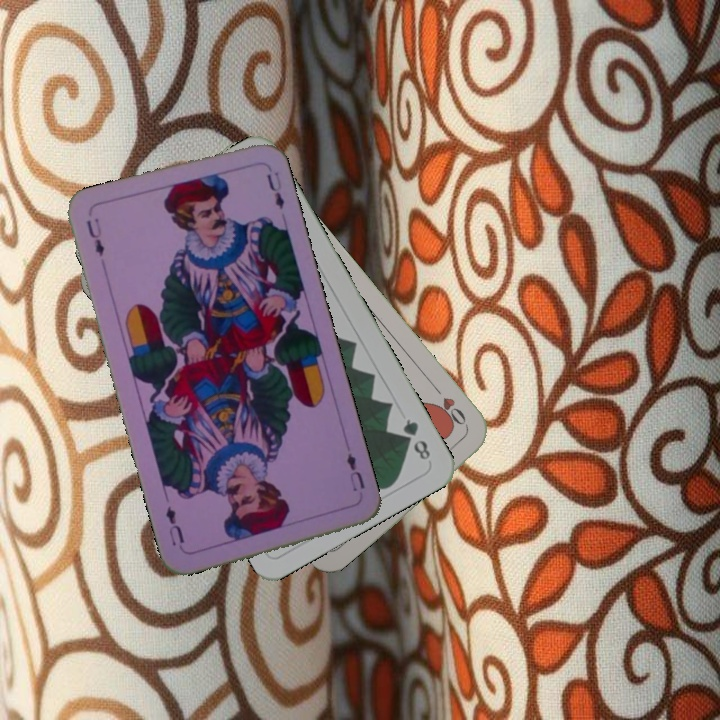EU: (342, 449, 368, 494), (82, 214, 108, 259)
G8: (398, 414, 433, 463)
HO: (429, 381, 471, 431)
